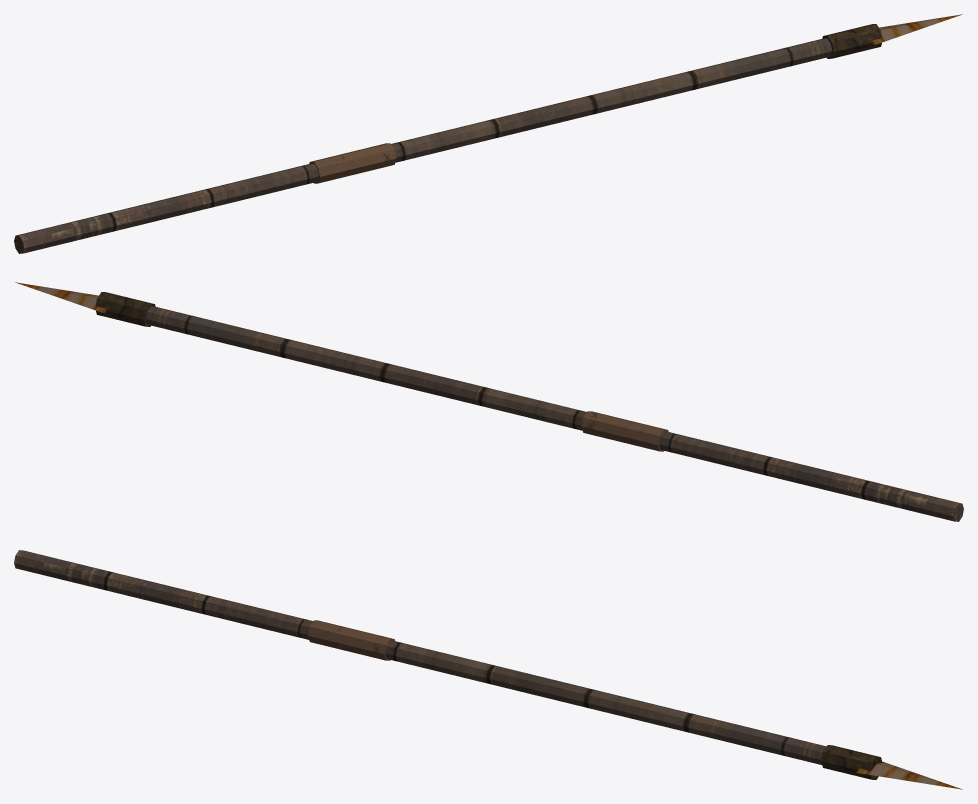
The model's file is held_weapon_spear.glb.
3 renders of one model, top to bottom at view 1: azimuth 30°, elevation 25°; view 2: azimuth 150°, elevation 25°; view 3: azimuth 330°, elevation 25°, orthographic.
Visible parts, largest first — view 1: cyl, cyl.003, cyl.002, cyl.001; view 2: cyl, cyl.003, cyl.002, cyl.001; view 3: cyl, cyl.003, cyl.002, cyl.001.
Part boxes in pixels (box(x1,y1,x2,y2)): cyl: box(14, 38, 832, 253); cyl.003: box(309, 143, 396, 183); cyl.002: box(822, 24, 882, 58); cyl.001: box(871, 14, 962, 44); cyl: box(145, 306, 963, 521); cyl.003: box(581, 411, 668, 451); cyl.002: box(95, 292, 155, 326); cyl.001: box(15, 282, 106, 312); cyl: box(14, 550, 826, 764); cyl.003: box(308, 620, 394, 660); cyl.002: box(821, 745, 882, 779); cyl.001: box(856, 761, 962, 789).
Size of the model in its own units: 1.73 by 0.04 by 0.06.
Materials: 4 (4 with a texture image).
